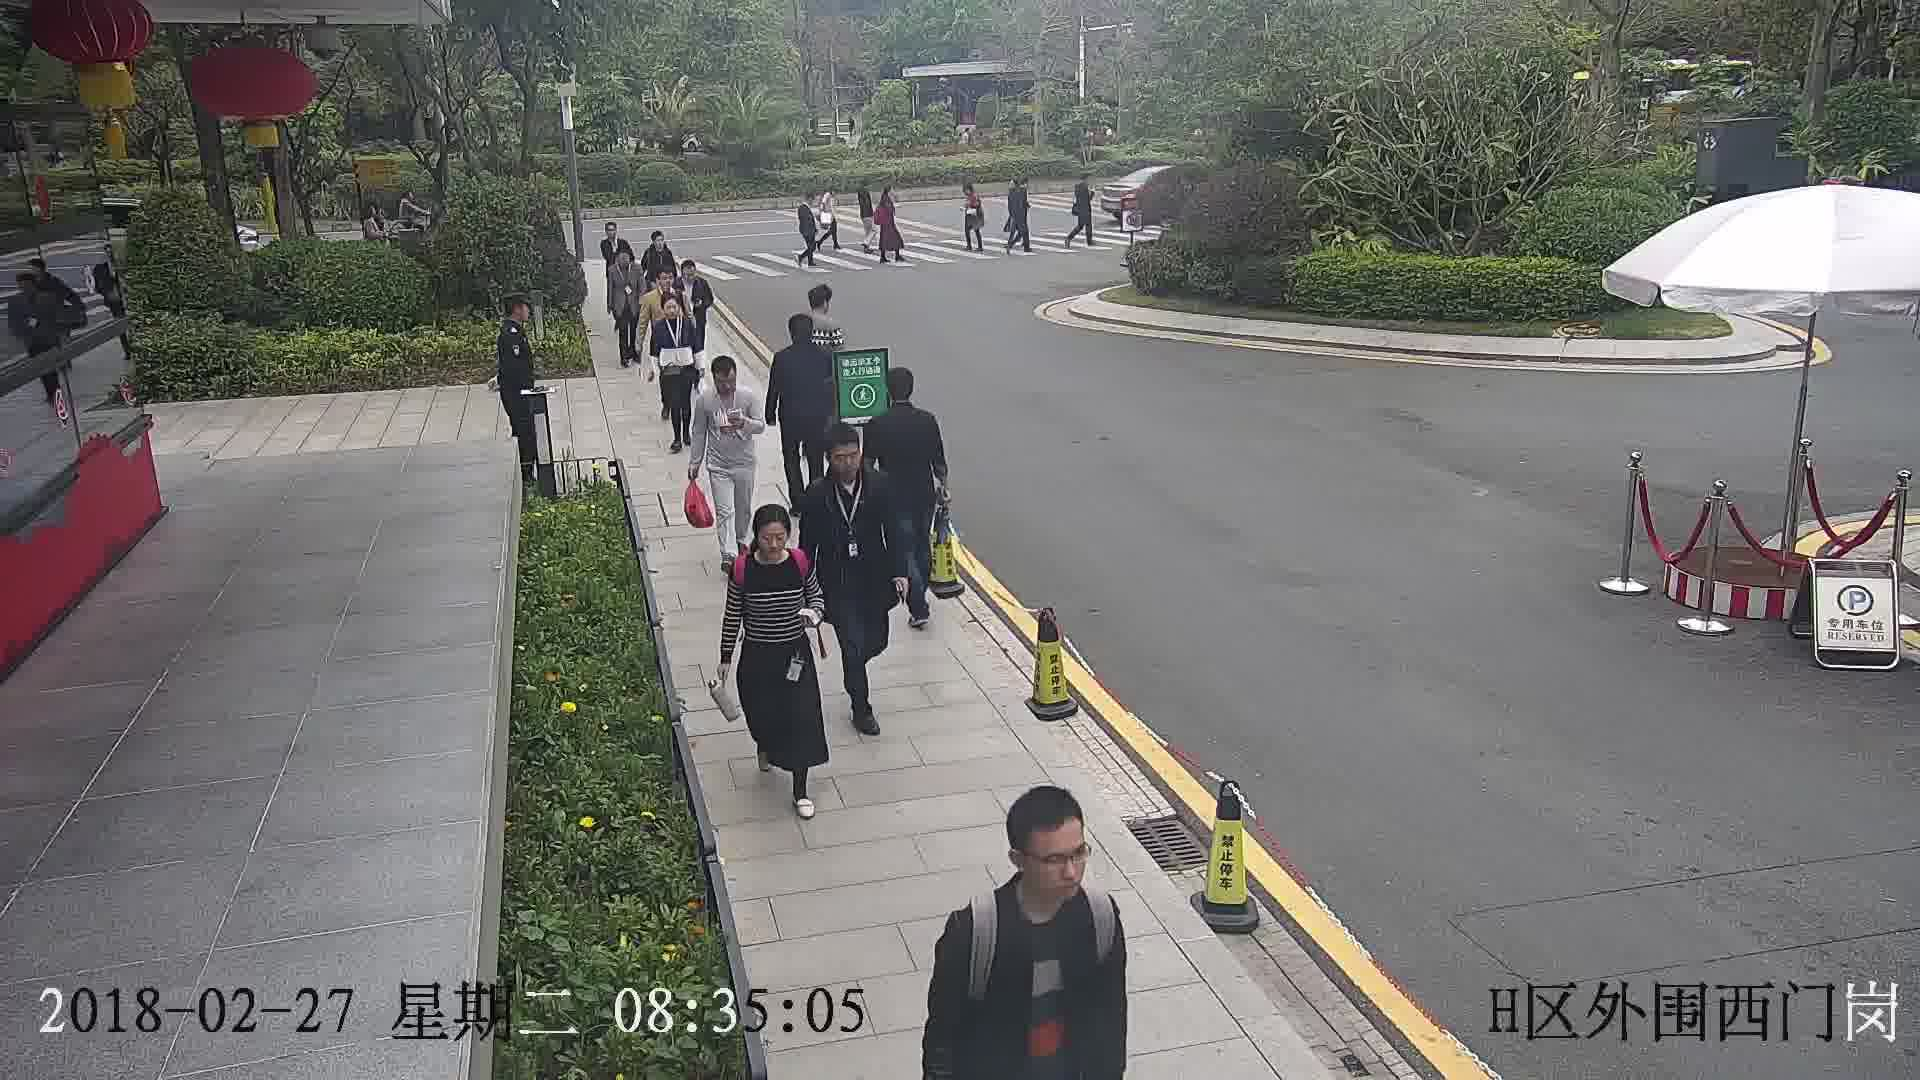face: (1013, 816, 1100, 903), (749, 518, 790, 564)
person: (941, 786, 1121, 970), (801, 423, 892, 509), (727, 498, 811, 576), (867, 362, 941, 441), (775, 310, 830, 370), (697, 353, 751, 410), (797, 281, 841, 332), (498, 293, 535, 348), (652, 292, 695, 335), (645, 262, 676, 299), (677, 257, 709, 290), (612, 240, 637, 274), (643, 228, 671, 256), (602, 219, 626, 251), (1074, 165, 1094, 198), (797, 188, 817, 212), (1009, 173, 1030, 196), (878, 187, 897, 210), (855, 174, 872, 197), (962, 181, 980, 201), (397, 188, 415, 204)
